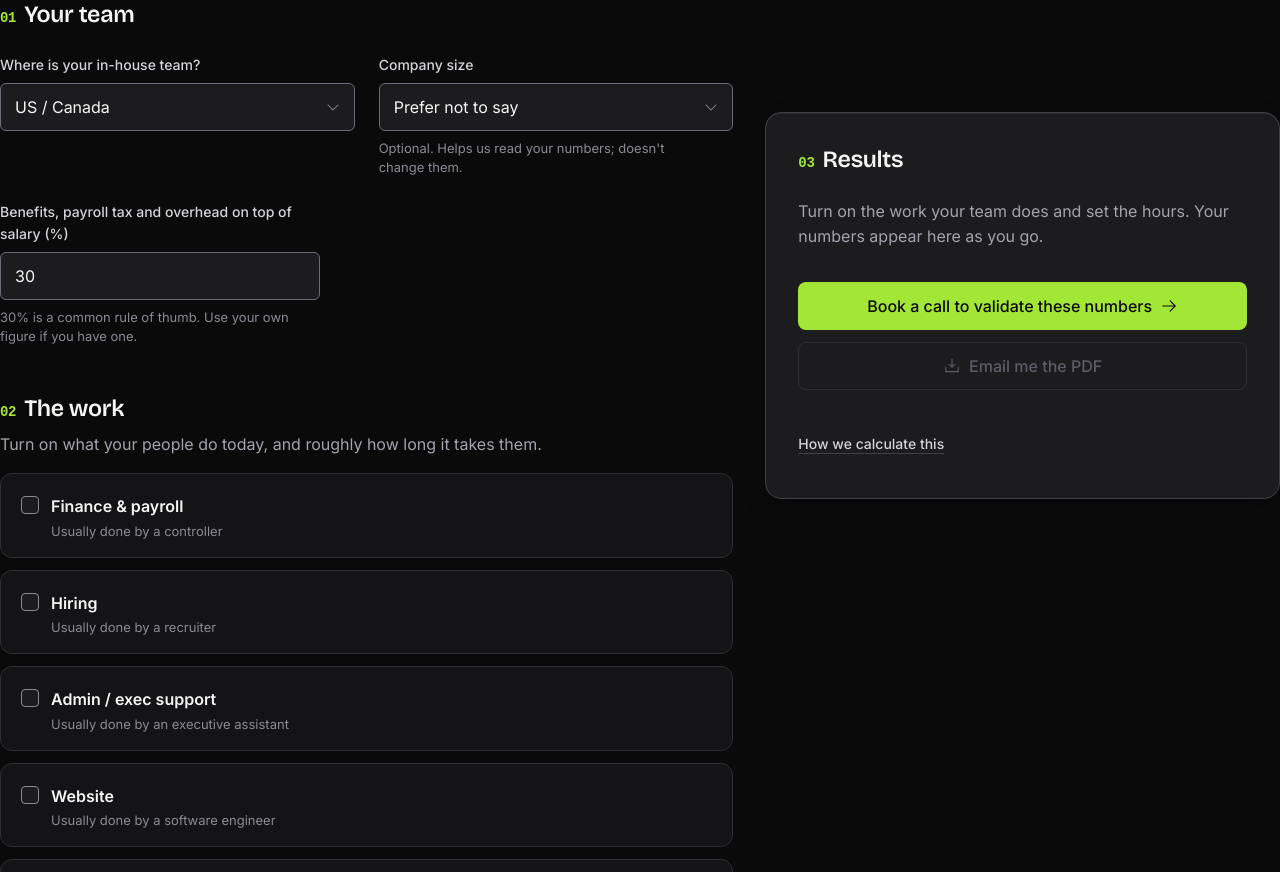
Scenario: <BackOfficeCalculator /> without a rate card (live site) › uses an edited salary and overhead
This screenshot has width=1280, height=872.
Click the checkbox labelled "Finance & payroll Usually done by a controller": x=30, y=505 21,496 -> 39,514
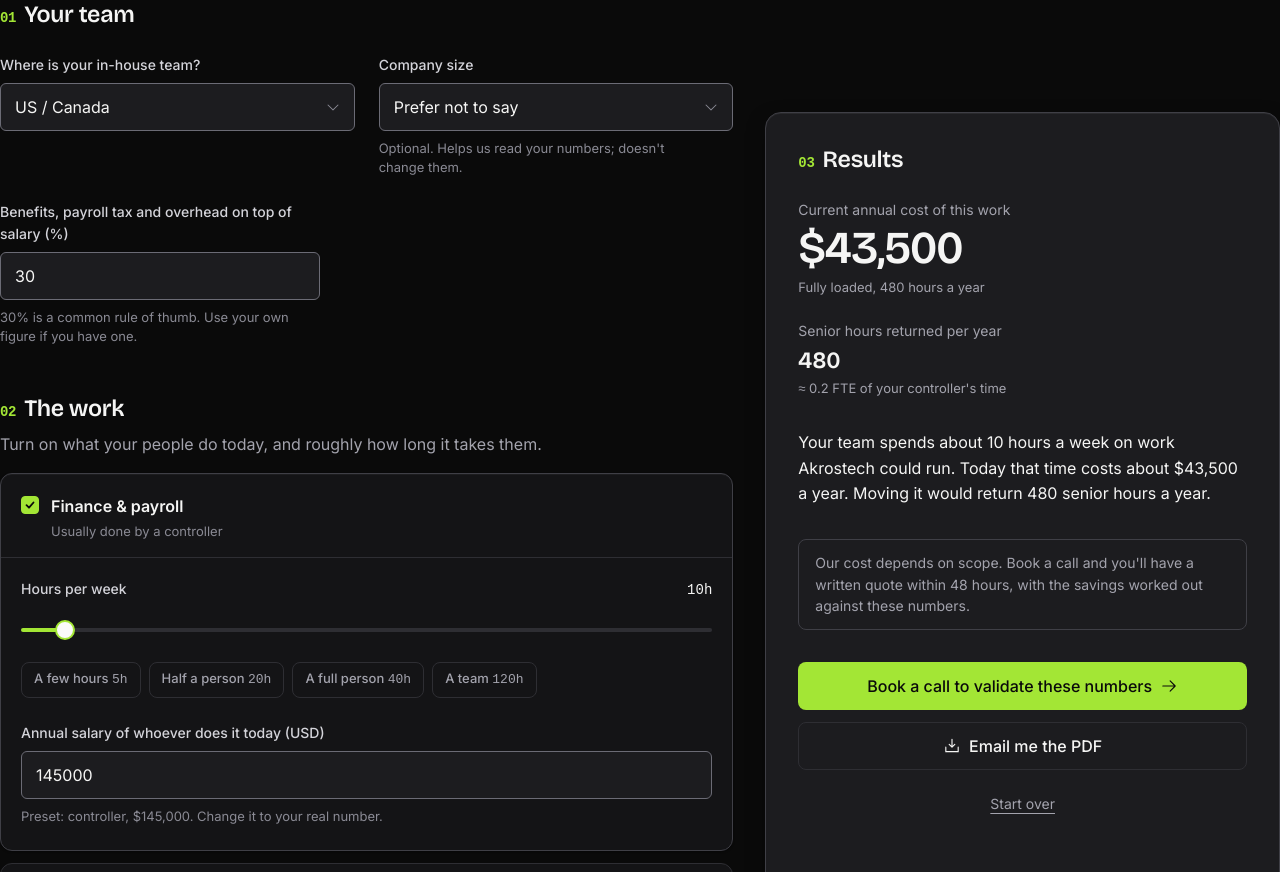
Click the button "A full person 40h": x=358, y=680 292,662 -> 424,698
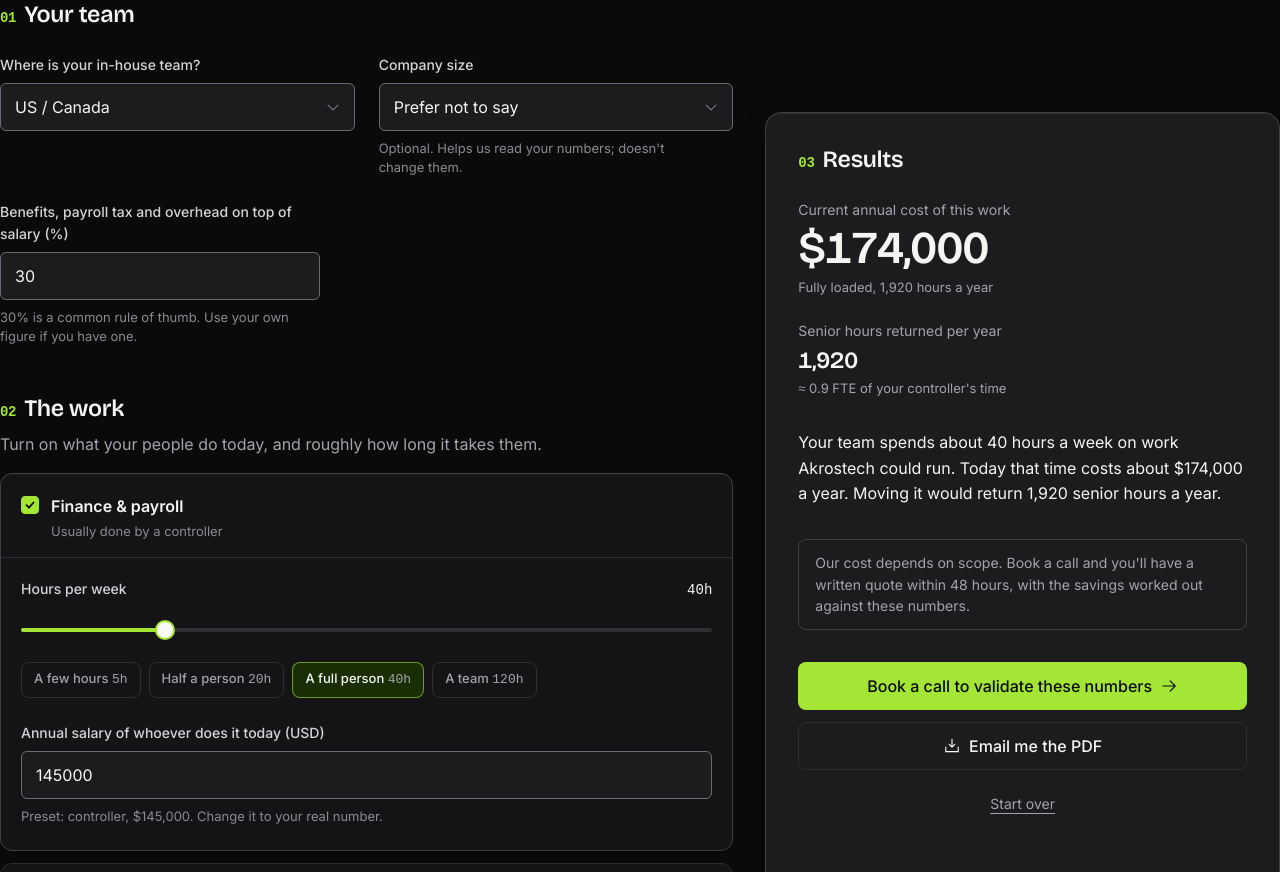
In the field labelled "Annual salary of whoever does it today (USD)": x=367, y=775 21,751 -> 712,799, type "104,000"
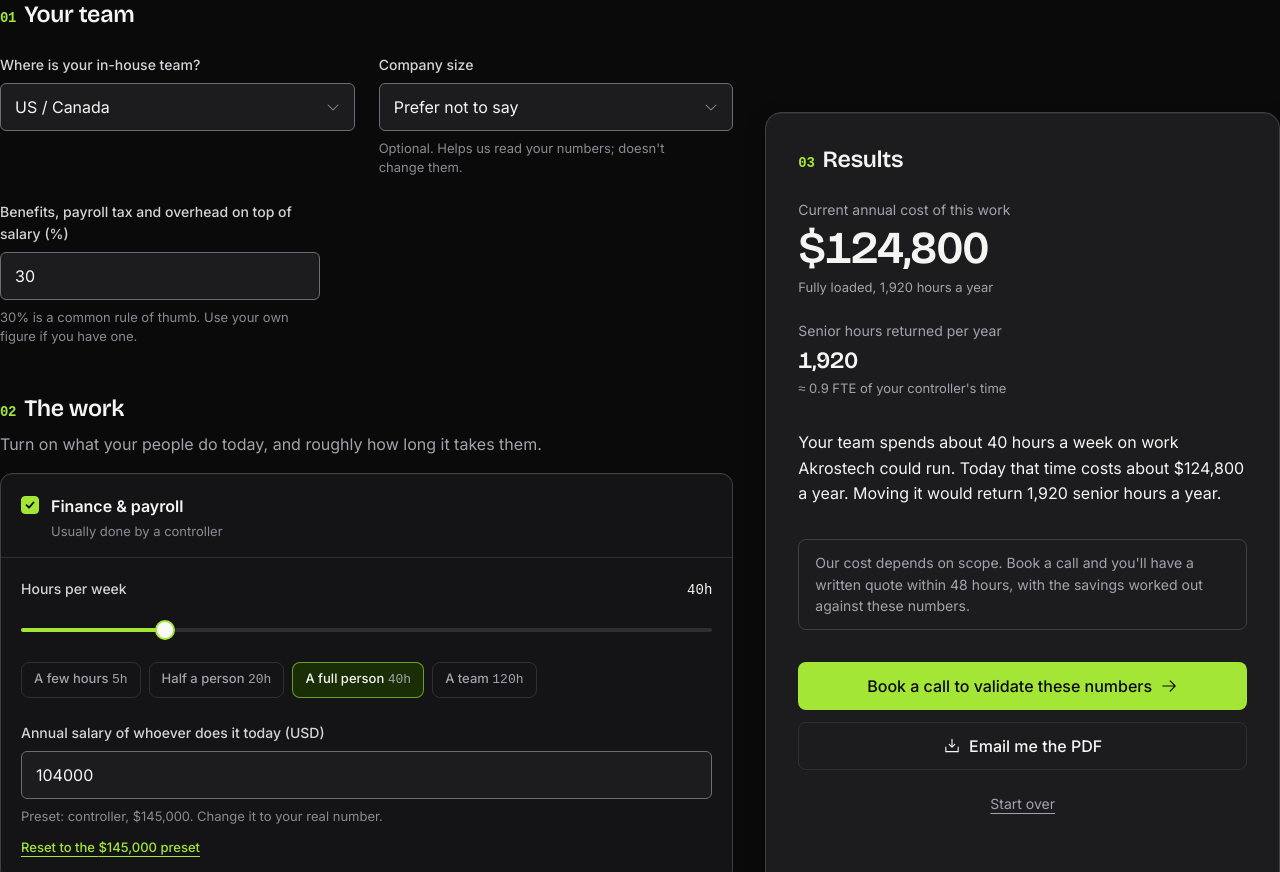
Replace the text in the number field labelled "Benefits, payroll tax and overhead on top of salary (%)" with "0": x=160, y=276 0,252 -> 320,300
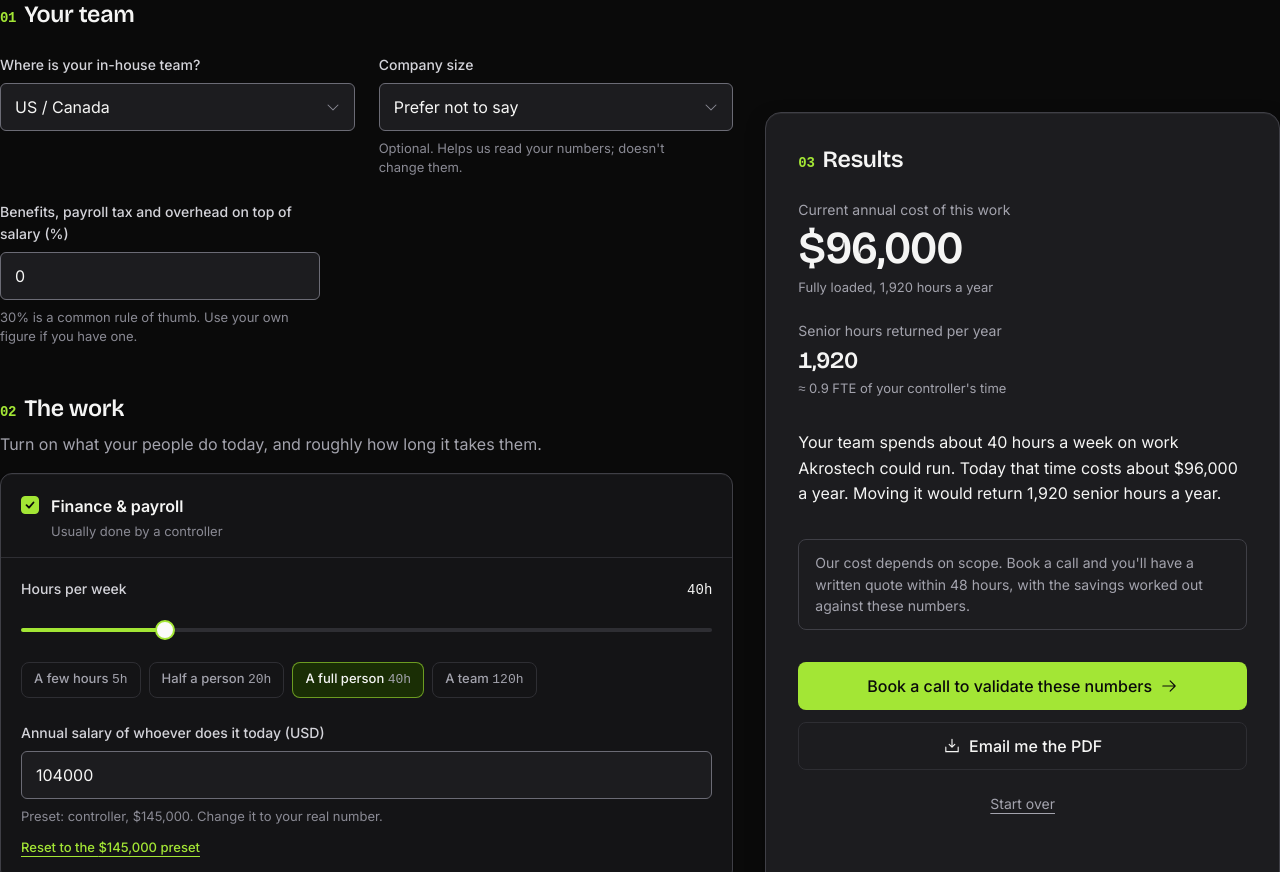
Check: the button "Reset to the $145,000 preset" is shown, box 21,838 -> 200,857
Check: the text "$96,000" is shown, box 798,221 -> 962,275
